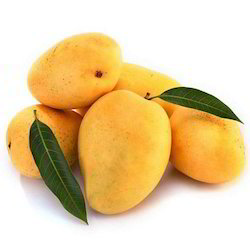mango: (83, 96, 171, 225), (19, 31, 129, 111), (176, 106, 249, 204), (5, 107, 77, 184)
